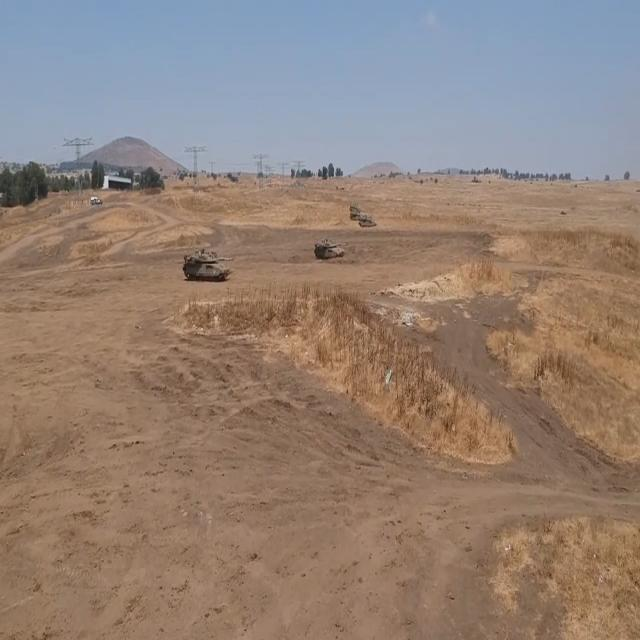tank: (184, 248, 238, 282), (347, 194, 361, 221), (314, 244, 341, 257), (359, 212, 374, 226)
